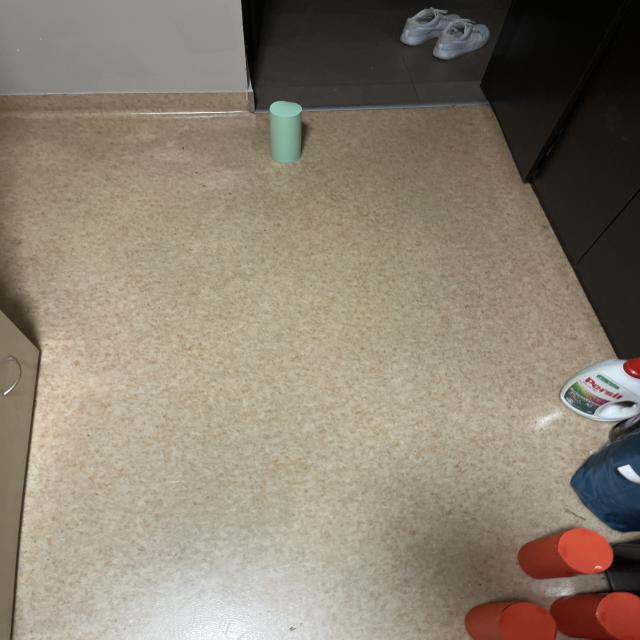meta: (269, 101, 302, 163)
